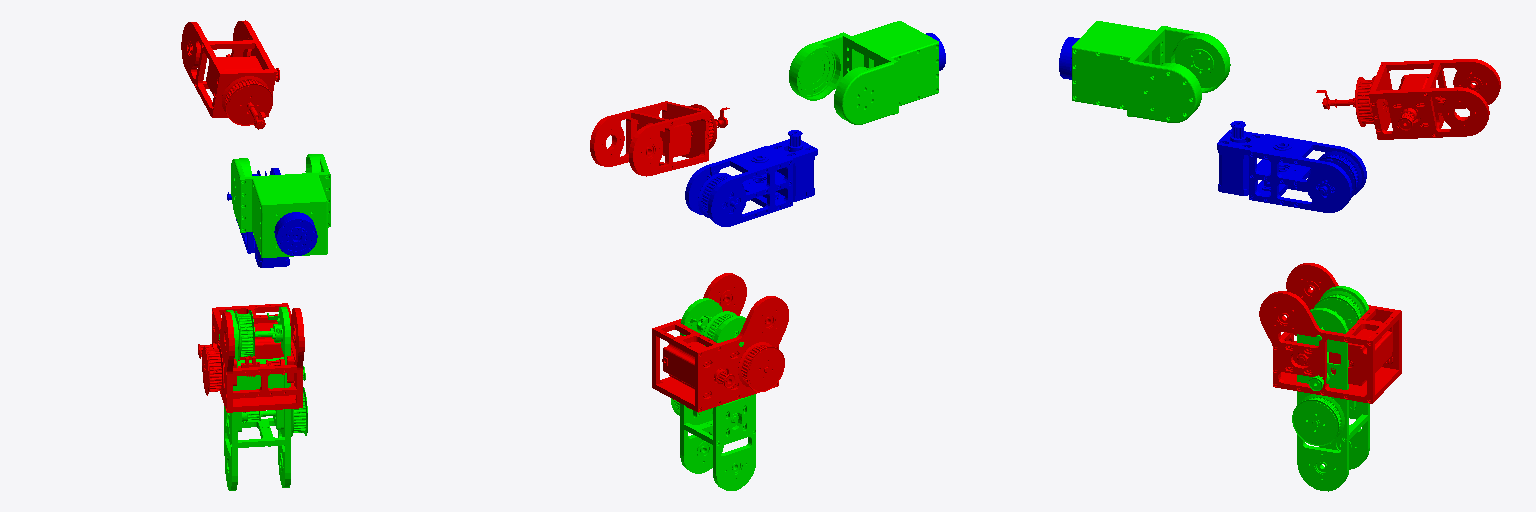
URDF robot description (sixrobot):
<?xml version="1.0" ?>
<robot
  name="sixrobot">
  <link
    name="base_link">
    <inertial>
      <origin
        xyz="-0.0075525 0.02417 0.018438"
        rpy="0 0 0" />
      <mass
        value="0.00001" />
      <inertia
        ixx="10" ixy="0.0" ixz="0.0" iyy="10" iyz="0.0" izz="10" />
    </inertial>
    <visual>
      <origin
        xyz="0 0 0"
        rpy="0 0 0" />
      <geometry>
        <mesh
          filename="package://sixrobot_description/meshes/base_link.stl" />
      </geometry>
      <material
        name="">
        <color
          rgba="255 250 250 1" />
      </material>
    </visual>
    <collision>
      <origin
        xyz="0 0 0"
        rpy="0 0 0" />
      <geometry>
        <mesh
          filename="package://sixrobot_description/meshes/base_link.stl" />
      </geometry>
    </collision>
  </link>
  <link
    name="Link1">
    <inertial>
      <origin
        xyz="-0.003411 0.071928 -0.0017952"
        rpy="0 0 0" />
      <mass
        value="0.00001" />
      <inertia
        ixx="10" ixy="0.0" ixz="0.0" iyy="10" iyz="0.0" izz="10" />
    </inertial>
    <visual>
      <origin
        xyz="0 0 0"
        rpy="0 0 0" />
      <geometry>
        <mesh
          filename="package://sixrobot_description/meshes/Link1.stl" />
      </geometry>
      <material
        name="">
        <color
          rgba="255 0 0 1" />
      </material>
    </visual>
    <collision>
      <origin
        xyz="0 0 0"
        rpy="0 0 0" />
      <geometry>
        <mesh
          filename="package://sixrobot_description/meshes/Link1.stl" />
      </geometry>
    </collision>
  </link>
  <joint
    name="joint1"
    type="revolute">
    <origin
      xyz="-0.0088055 -0.022514 0.09434"
      rpy="1.5708 5.6825E-17 1.1891" />
    <parent
      link="base_link" />
    <child
      link="Link1" />
    <axis
      xyz="0 1 0" />
    <limit
      lower="-1.5708"
      upper="1.5708"
      effort="0"
      velocity="0" />
  </joint>
  <link
    name="Link2">
    <inertial>
      <origin
        xyz="0.14201 -8.8599E-08 -0.00098855"
        rpy="0 0 0" />
      <mass
        value="0.00001" />
      <inertia
        ixx="10" ixy="0.0" ixz="0.0" iyy="10" iyz="0.0" izz="10" />
    </inertial>
    <visual>
      <origin
        xyz="0 0 0"
        rpy="0 0 0" />
      <geometry>
        <mesh
          filename="package://sixrobot_description/meshes/Link2.stl" />
      </geometry>
      <material
        name="">
        <color
          rgba="0 255 0 1" />
      </material>
    </visual>
    <collision>
      <origin
        xyz="0 0 0"
        rpy="0 0 0" />
      <geometry>
        <mesh
          filename="package://sixrobot_description/meshes/Link2.stl" />
      </geometry>
    </collision>
  </link>
  <joint
    name="joint2"
    type="revolute">
    <origin
      xyz="-0.005 0.1 0"
      rpy="3.1416 -1.1269E-15 1.5708" />
    <parent
      link="Link1" />
    <child
      link="Link2" />
    <axis
      xyz="0 0 -1" />
    <limit
      lower="-1.5708"
      upper="1.5708"
      effort="0"
      velocity="0" />
  </joint>
  <link
    name="Link3">
    <inertial>
      <origin
        xyz="-0.089574 0.0018335 0.00017688"
        rpy="0 0 0" />
      <mass
        value="0.00001" />
      <inertia
        ixx="10" ixy="0.0" ixz="0.0" iyy="10" iyz="0.0" izz="10" />
    </inertial>
    <visual>
      <origin
        xyz="0 0 0"
        rpy="0 0 0" />
      <geometry>
        <mesh
          filename="package://sixrobot_description/meshes/Link3.stl" />
      </geometry>
      <material
        name="">
        <color
          rgba="0 0 255 1" />
      </material>
    </visual>
    <collision>
      <origin
        xyz="0 0 0"
        rpy="0 0 0" />
      <geometry>
        <mesh
          filename="package://sixrobot_description/meshes/Link3.stl" />
      </geometry>
    </collision>
  </link>
  <joint
    name="joint3"
    type="revolute">
    <origin
      xyz="0.205 0 0"
      rpy="-1.1102E-16 1.6099E-16 3.1416" />
    <parent
      link="Link2" />
    <child
      link="Link3" />
    <axis
      xyz="0 0 -1" />
    <limit
      lower="-1.5708"
      upper="1.5708"
      effort="0"
      velocity="0" />
  </joint>
  <link
    name="Link4">
    <inertial>
      <origin
        xyz="0.16649 0.021449 0.029405"
        rpy="0 0 0" />
      <mass
        value="0.00001" />
      <inertia
        ixx="10" ixy="0.0" ixz="0.0" iyy="10" iyz="0.0" izz="10" />
    </inertial>
    <visual>
      <origin
        xyz="0 0 0"
        rpy="0 0 0" />
      <geometry>
        <mesh
          filename="package://sixrobot_description/meshes/Link4.stl" />
      </geometry>
      <material
        name="">
        <color
          rgba="255 0 0 1" />
      </material>
    </visual>
    <collision>
      <origin
        xyz="0 0 0"
        rpy="0 0 0" />
      <geometry>
        <mesh
          filename="package://sixrobot_description/meshes/Link4.stl" />
      </geometry>
    </collision>
  </link>
  <joint
    name="joint4"
    type="revolute">
    <origin
      xyz="-0.11 0 0"
      rpy="-0.13967 0.1538 1.4216" />
    <parent
      link="Link3" />
    <child
      link="Link4" />
    <axis
      xyz="0.97722 0.12611 0.17071" />
    <limit
      lower="-1.5708"
      upper="1.5708"
      effort="0"
      velocity="0" />
  </joint>
  <link
    name="Link5">
    <inertial>
      <origin
        xyz="-0.088587 5.3876E-09 0.00082307"
        rpy="0 0 0" />
      <mass
        value="0.00001" />
      <inertia
        ixx="10" ixy="0.0" ixz="0.0" iyy="10" iyz="0.0" izz="10" />
    </inertial>
    <visual>
      <origin
        xyz="0 0 0"
        rpy="0 0 0" />
      <geometry>
        <mesh
          filename="package://sixrobot_description/meshes/Link5.stl" />
      </geometry>
      <material
        name="">
        <color
          rgba="0 255 0 1" />
      </material>
    </visual>
    <collision>
      <origin
        xyz="0 0 0"
        rpy="0 0 0" />
      <geometry>
        <mesh
          filename="package://sixrobot_description/meshes/Link5.stl" />
      </geometry>
    </collision>
  </link>
  <joint
    name="joint5"
    type="revolute">
    <origin
      xyz="0.20277 0.026168 0.035423"
      rpy="-0.11711 0.17155 -3.0132" />
    <parent
      link="Link4" />
    <child
      link="Link5" />
    <axis
      xyz="0 0 -1" />
    <limit
      lower="-1.5708"
      upper="1.5708"
      effort="0"
      velocity="0" />
  </joint>
  <link
    name="Link6">
    <inertial>
      <origin
        xyz="-0.015821 9.9334E-07 -2.6332E-07"
        rpy="0 0 0" />
      <mass
        value="0.00001" />
      <inertia
        ixx="10" ixy="0.0" ixz="0.0" iyy="10" iyz="0.0" izz="10" />
    </inertial>
    <visual>
      <origin
        xyz="0 0 0"
        rpy="0 0 0" />
      <geometry>
        <mesh
          filename="package://sixrobot_description/meshes/Link6.stl" />
      </geometry>
      <material
        name="">
        <color
          rgba="0 0 255 1" />
      </material>
    </visual>
    <collision>
      <origin
        xyz="0 0 0"
        rpy="0 0 0" />
      <geometry>
        <mesh
          filename="package://sixrobot_description/meshes/Link6.stl" />
      </geometry>
    </collision>
  </link>
  <joint
    name="joint6"
    type="continuous">
    <origin
      xyz="-0.13508 0 0.000625"
      rpy="-1.8616 -2.3315E-15 8.5363E-18" />
    <parent
      link="Link5" />
    <child
      link="Link6" />
    <axis
      xyz="-1 0 0" />
  </joint>

</robot>

--- Render facts (derived) ---
Views: 3 orthographic renders of the robot side by side, from view 1: azimuth 30°, elevation 25°; view 2: azimuth 150°, elevation 25°; view 3: azimuth 270°, elevation 25°.
Model sixrobot with 7 links and 6 joints (5 revolute, 1 continuous), rooted at base_link, posed all joints at 0.
Links seen in each view (by area): view 1: Link1, Link4, Link5, Link2, Link6, Link3; view 2: Link1, Link5, Link3, Link2, Link4; view 3: Link5, Link1, Link4, Link2, Link3.
Link boxes in pixels (x1,y1,x2,y2): Link1: (198, 303, 304, 412); Link4: (181, 20, 279, 129); Link5: (231, 154, 330, 257); Link2: (219, 307, 307, 490); Link6: (274, 212, 317, 255); Link3: (227, 168, 289, 267); Link1: (652, 273, 788, 412); Link5: (789, 21, 938, 124); Link3: (685, 130, 817, 226); Link2: (671, 298, 755, 490); Link4: (590, 101, 729, 176); Link5: (1072, 21, 1230, 122); Link1: (1259, 263, 1401, 403); Link4: (1316, 59, 1500, 139); Link2: (1292, 286, 1369, 491); Link3: (1217, 121, 1366, 212).
Size in the robot's own frame: 0.2594 by 0.5753 by 0.606 metres.
6 mesh visuals loaded from 7 distinct referenced files (6 binary STL); not drawn: 1 (reference not matched to a file when rendering).